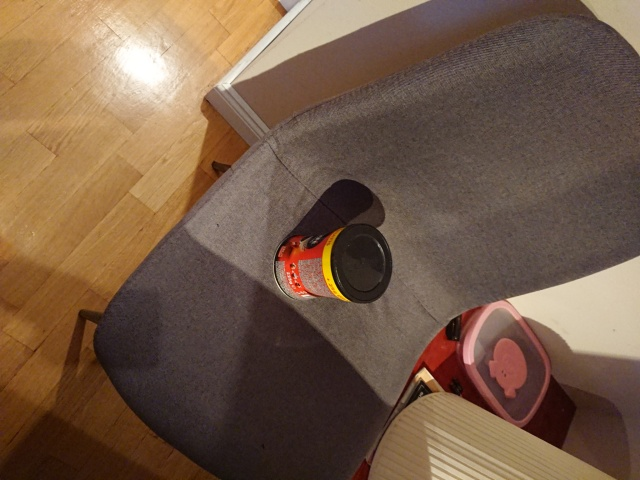Nescafe Classic 225g: (270, 222, 395, 308)
